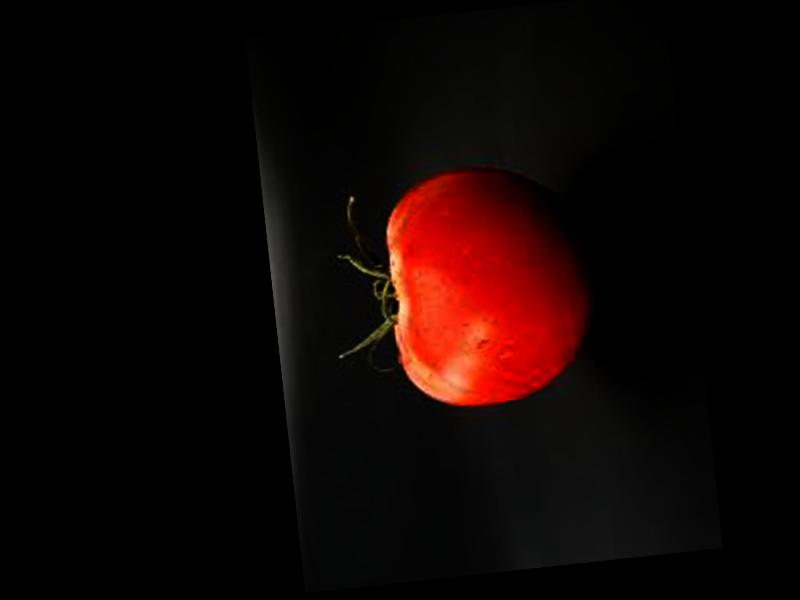Tomato: (378, 158, 602, 416)
